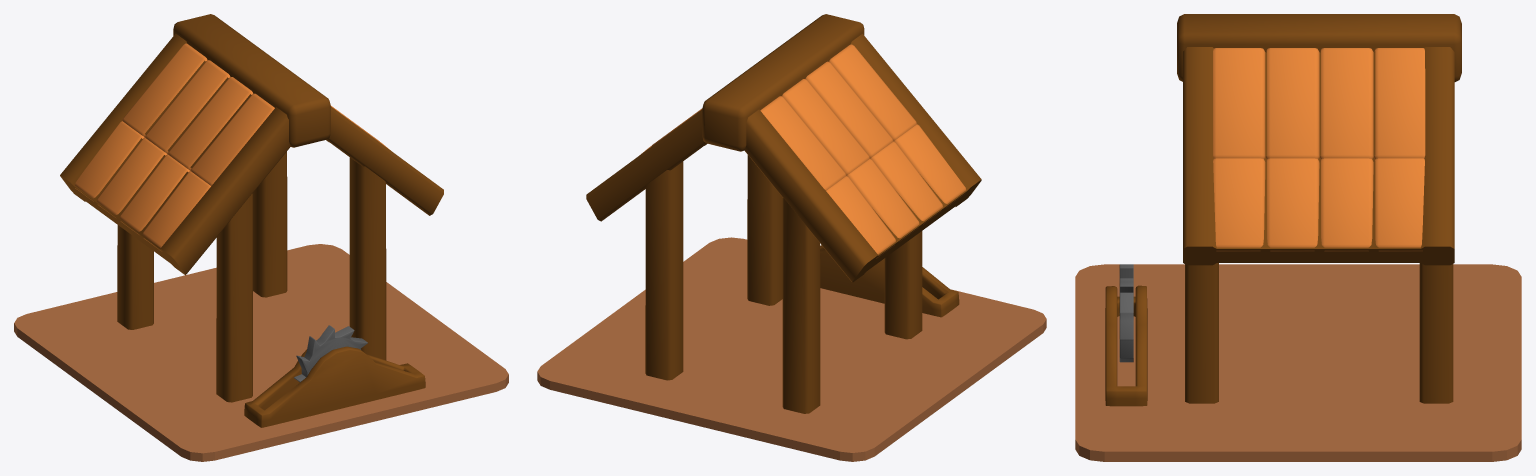
The model's file is Lumber jack.fbx.
3 views of the same model, side by side, from view 1: azimuth 30°, elevation 25°; view 2: azimuth 150°, elevation 25°; view 3: azimuth 270°, elevation 25° (orthographic). The views are drawn at different scales.
Parts seen in each view (by area): view 1: Lumber_Hut, Blade; view 2: Lumber_Hut; view 3: Lumber_Hut, Blade.
Part boxes in pixels (box(x1,y1,x2,y2)): Lumber_Hut: box(14, 14, 508, 461); Blade: box(294, 325, 367, 382); Lumber_Hut: box(537, 14, 1046, 461); Lumber_Hut: box(1075, 14, 1521, 461); Blade: box(1119, 264, 1133, 362).
Bounding box in the file's own units: 11.01 × 9.45 × 11.08.
